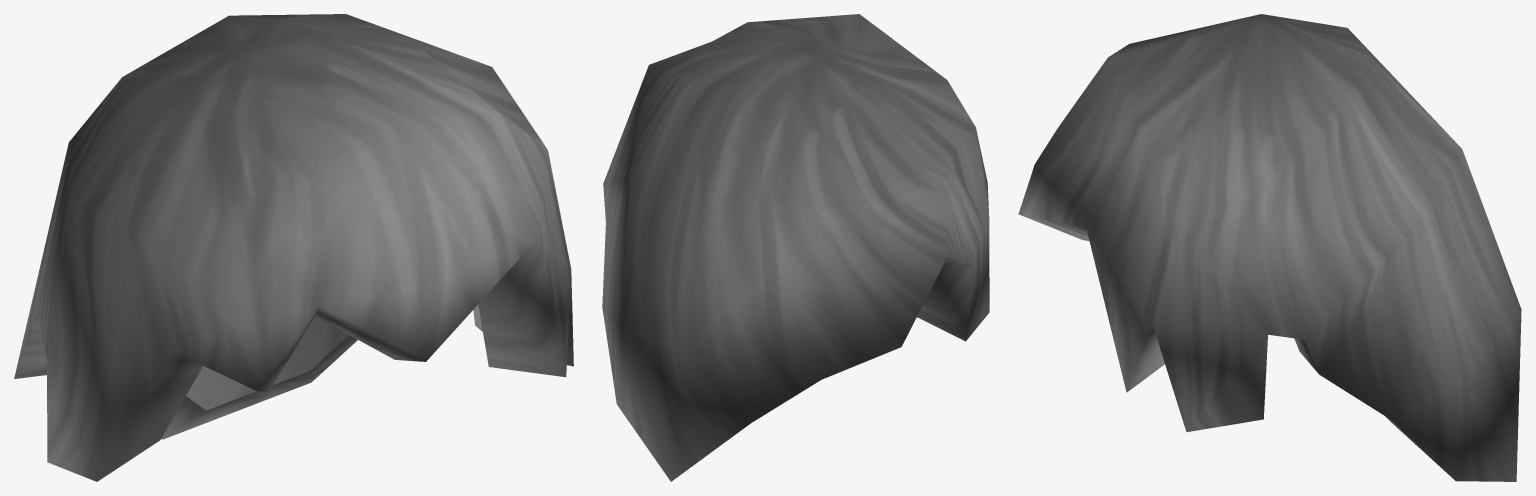
File: NPC_Hair_003.fbx
The picture shows the model from 3 angles, left to right: view 1: azimuth 30°, elevation 25°; view 2: azimuth 150°, elevation 25°; view 3: azimuth 270°, elevation 25°; orthographic projection. The views are drawn at different scales.
Visible parts, largest first — view 1: NPC_Hair_003; view 2: NPC_Hair_003; view 3: NPC_Hair_003.
Part boxes in pixels (left/top/right/bottom): NPC_Hair_003: left=14, top=14, right=573, bottom=481; NPC_Hair_003: left=602, top=14, right=989, bottom=481; NPC_Hair_003: left=1018, top=14, right=1521, bottom=481.
Bounding box in the file's own units: 32.96 × 34.27 × 34.65.
